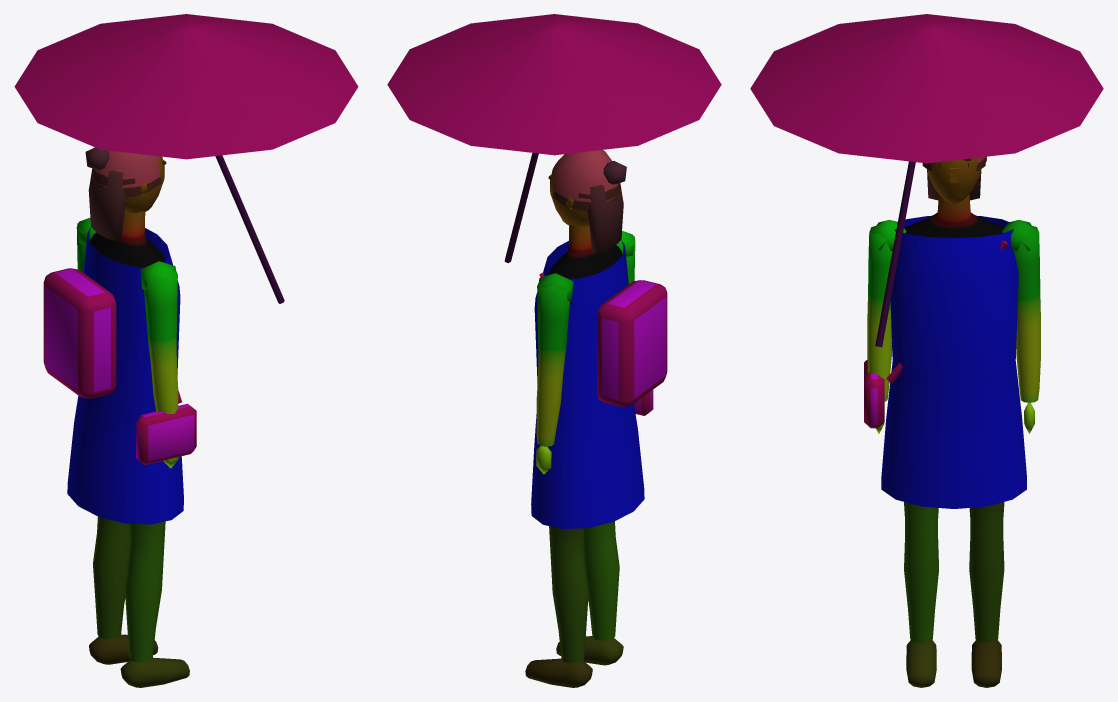
File: person_adult.glb
3 views of the same model, side by side, from view 1: azimuth 30°, elevation 25°; view 2: azimuth 150°, elevation 25°; view 3: azimuth 270°, elevation 25° (orthographic). The views are drawn at different scales.
Visible parts, largest first — view 1: person_adult; view 2: person_adult; view 3: person_adult.
Boxes of the visible parts, <box> form: person_adult: <box>14,14,358,687</box>; person_adult: <box>387,14,721,687</box>; person_adult: <box>750,14,1103,687</box>.
Bounding box in the file's own units: 1.04 × 2.16 × 1.04.
